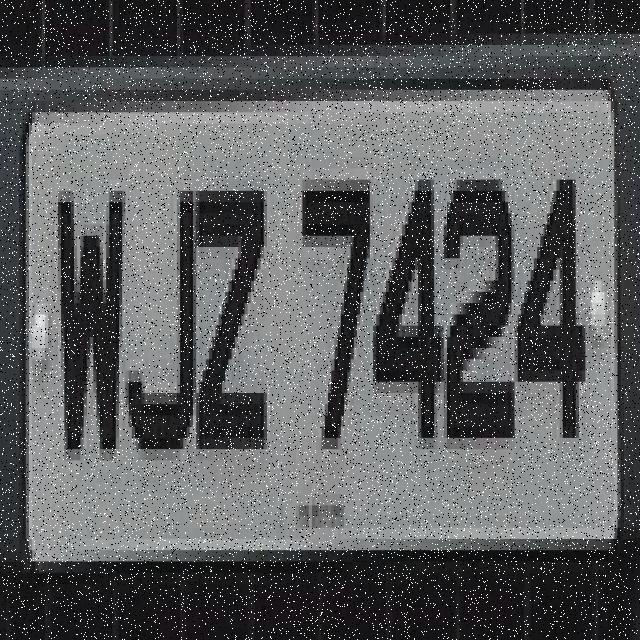licenseplate: (22, 74, 622, 552)
